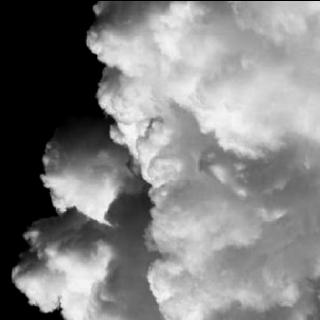Stratus: (9, 0, 320, 320)
